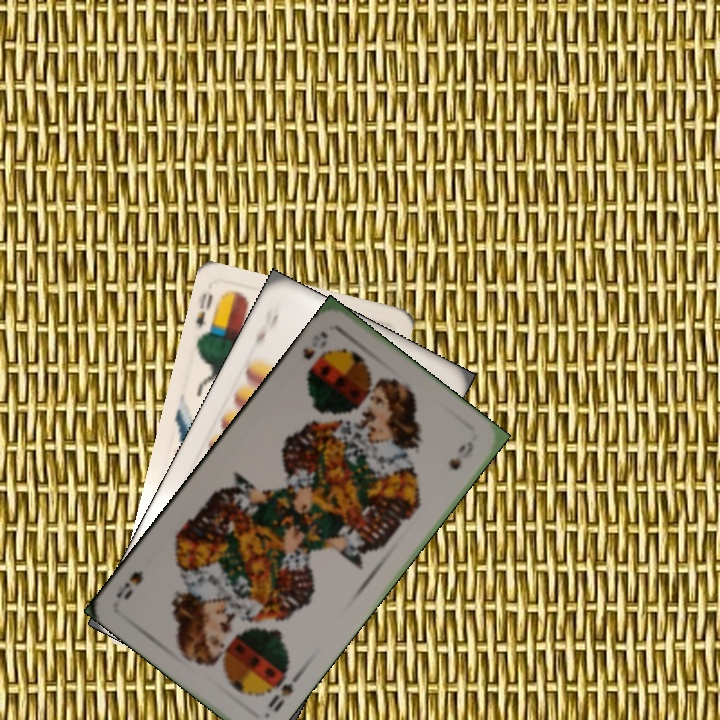E9: (246, 302, 282, 353)
EO: (192, 288, 224, 342)
SO: (263, 664, 296, 715), (298, 327, 331, 363)
